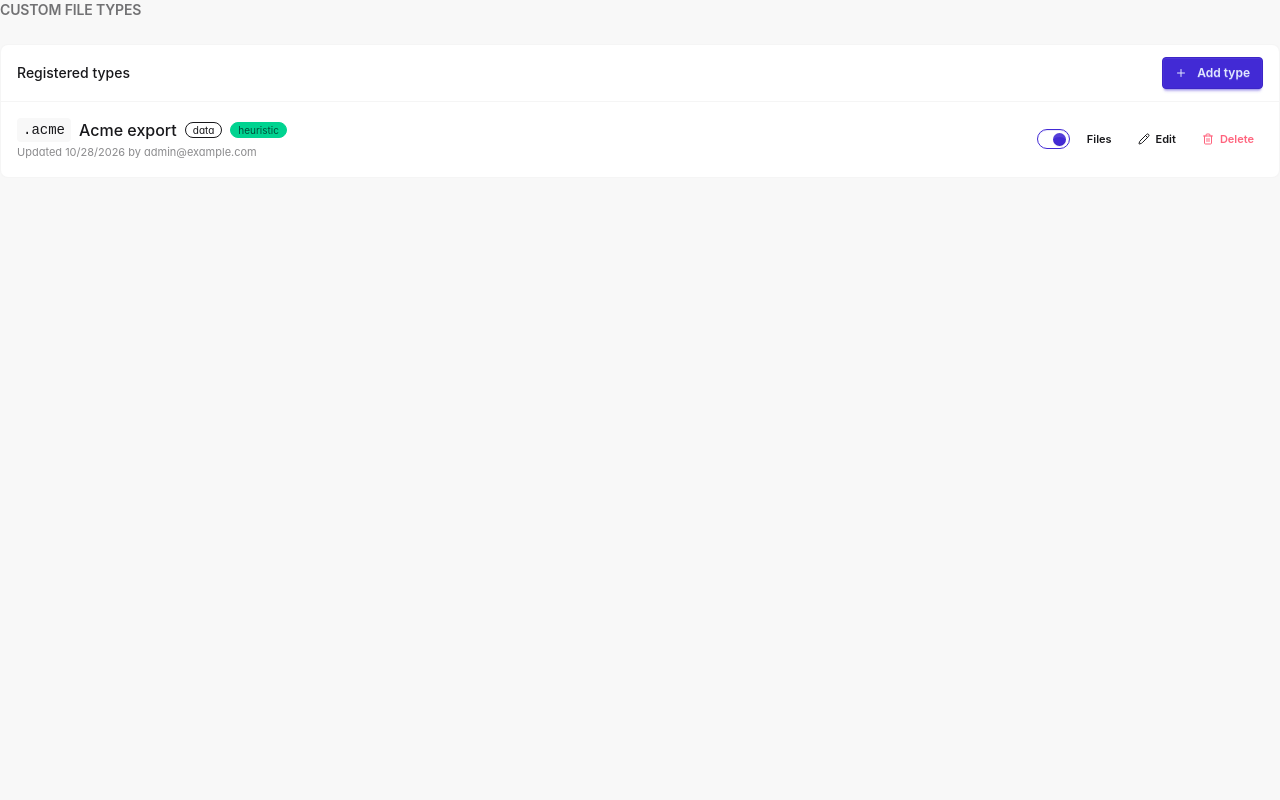
Scenario: CustomFileTypes › delete › counts the indexed files first, says they stay searchable, and offers no re-index
What coordinates should you click on to do the following:
click the button with test id "cft-delete"
I would click on:
 (1228, 139)
Its box is [1193,127,1263,151].
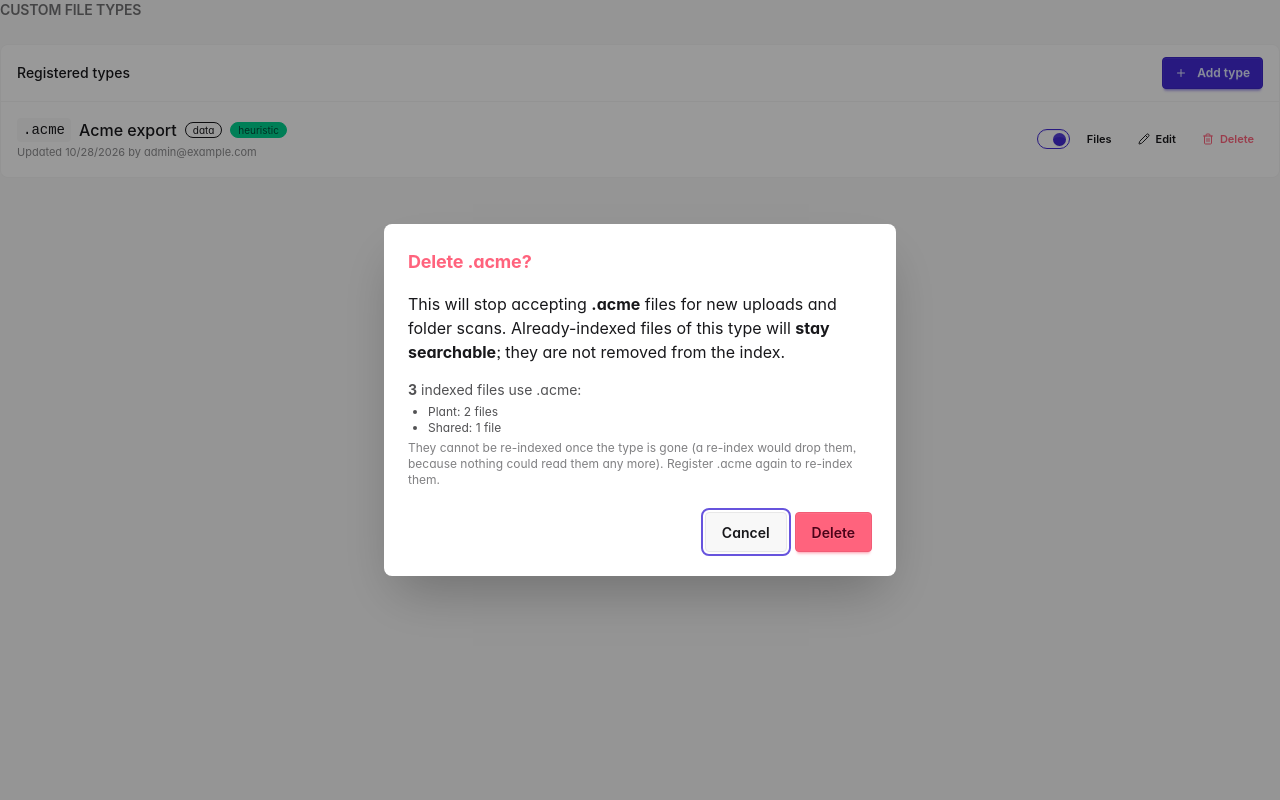
Check: the element with test id "cft-delete-usage" shows "3 indexed files use .acme", box [408,380,872,488]
Check: the element with test id "cft-delete-usage" shows "Plant: 2 files", box [428,404,498,419]
Check: the element with test id "cft-delete-usage" shows "cannot be re-indexed once the type is gone", box [408,440,856,487]
